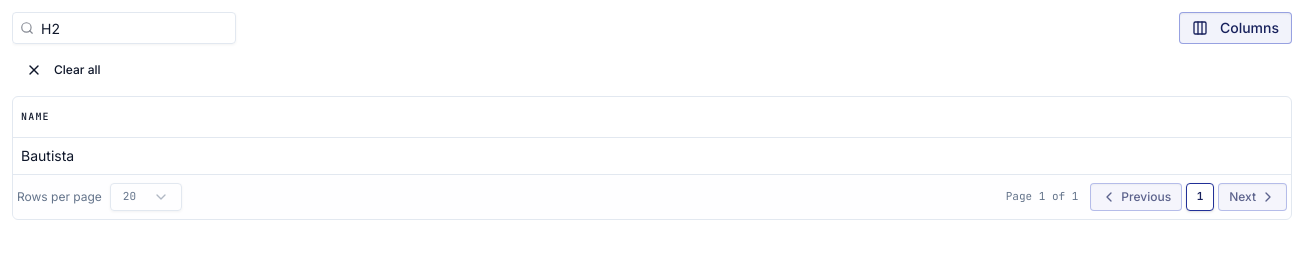
Test: DataTable initialSearchParam › clearing the search drops the param and keeps the others
This screenshot has width=1304, height=271.
Clear the field with placeholder "Search" at (124, 28), box [12,12,236,44]
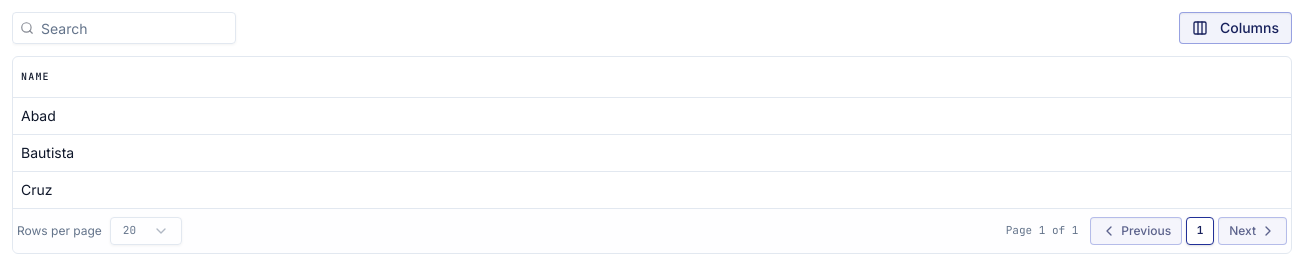
Expected: the number of cells is 3, [13,97,1291,134]; [13,134,1291,171]; [13,171,1291,208]
